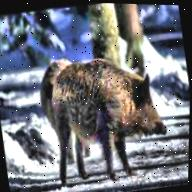boar: (26, 33, 176, 186)
